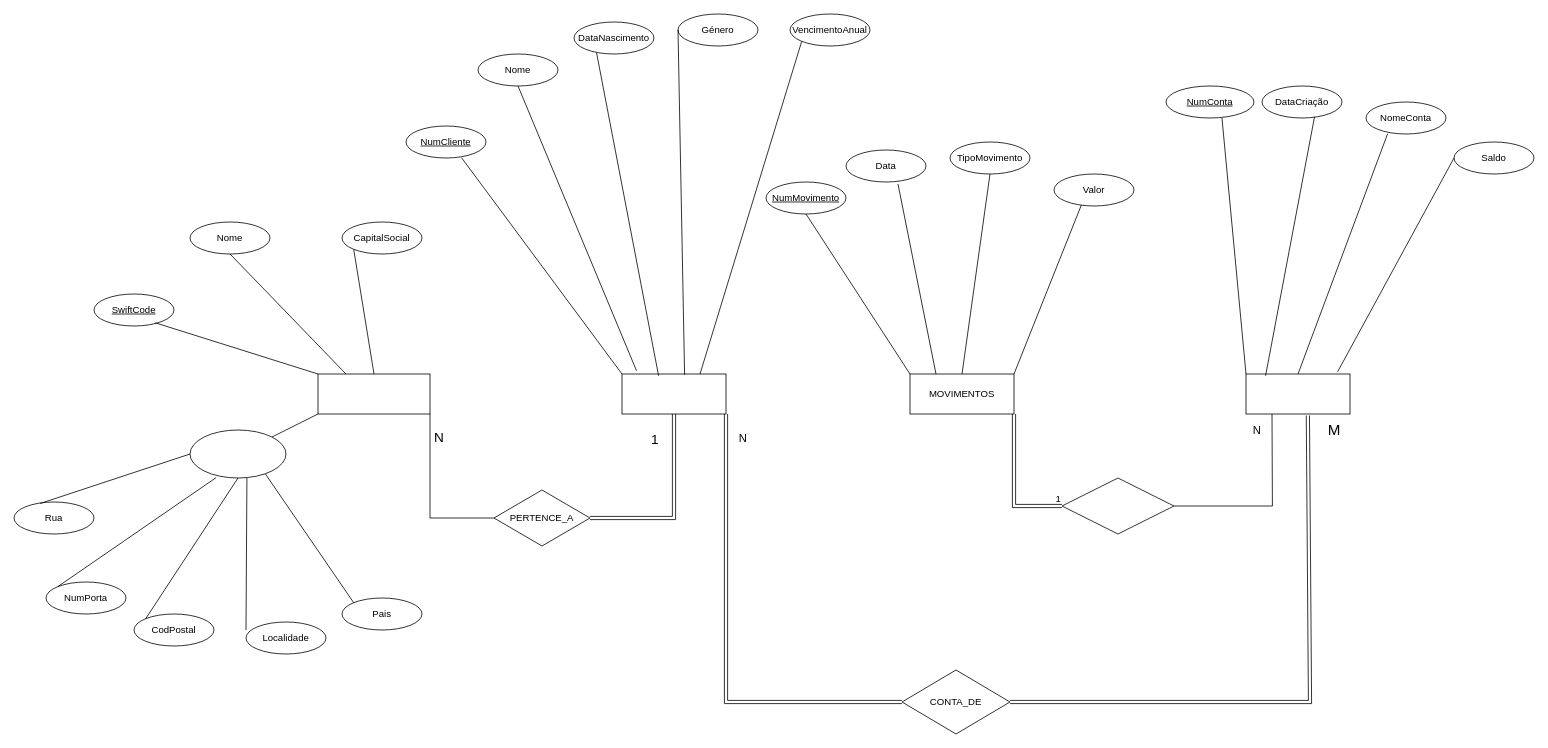
Image size: 1548x748. Some labels were removed from this diagram. The centre of each missing label's shape, as x and y in pixels:
BANCO: the point at 373,393
CLIENTE: the point at 673,393
CONTA: the point at 1297,393
Morada: the point at 237,453
MOVIMENTOS_DE: the point at 1117,505
